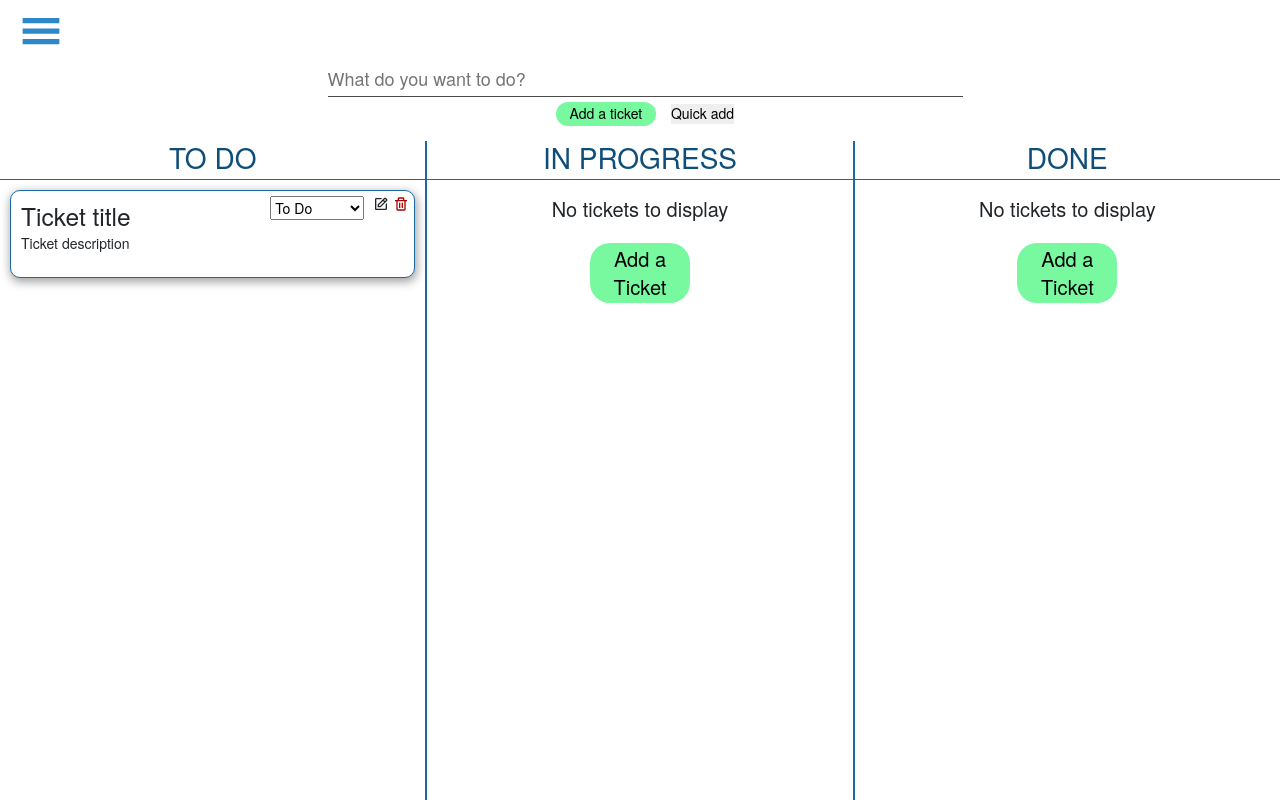
Scenario: Checks editing tickets function › Editing ticket using modal › user can edit title, description and status using modal
Click the icon with test id "edit-ticket-button".
click(381, 204)  # box top-left (373, 196), bottom-right (389, 212)
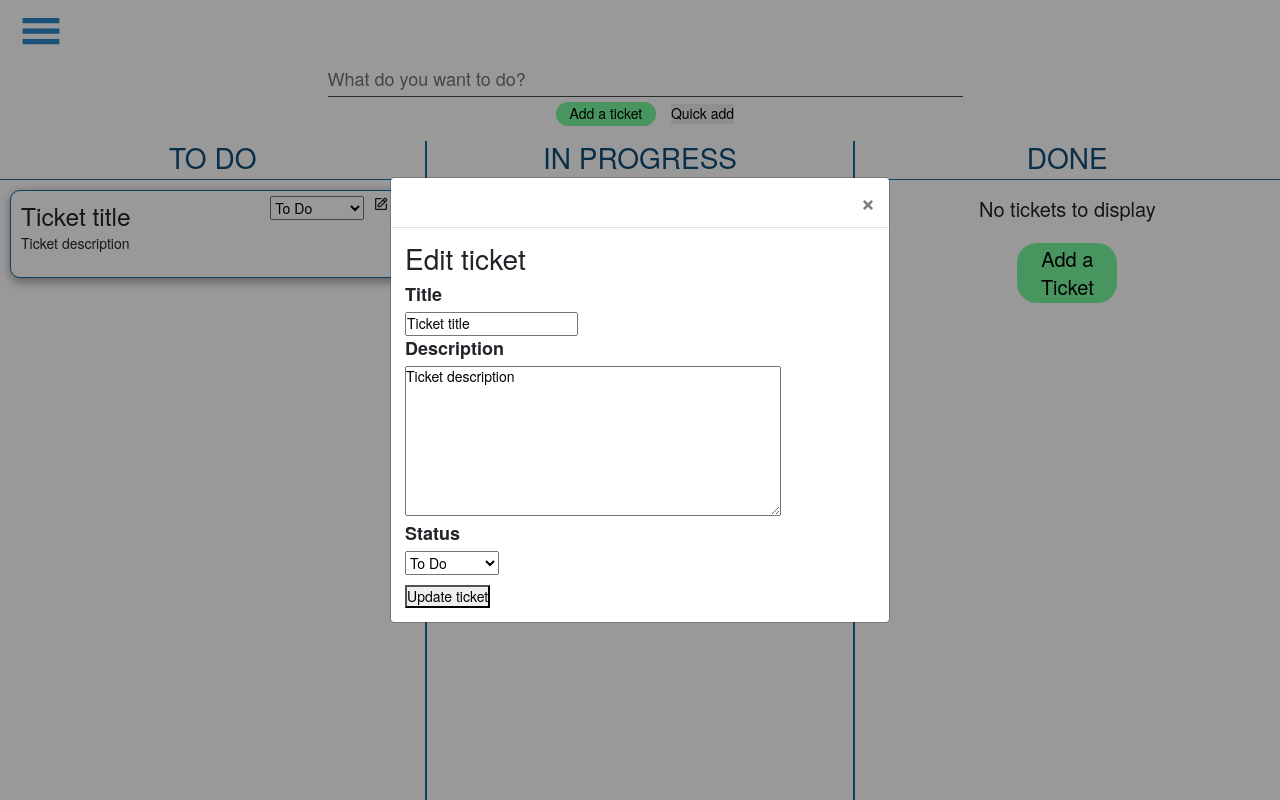
Replace the text in the field with test id "modal-title-input" with "New title" at point(492, 324), box top-left (405, 312), bottom-right (578, 336)
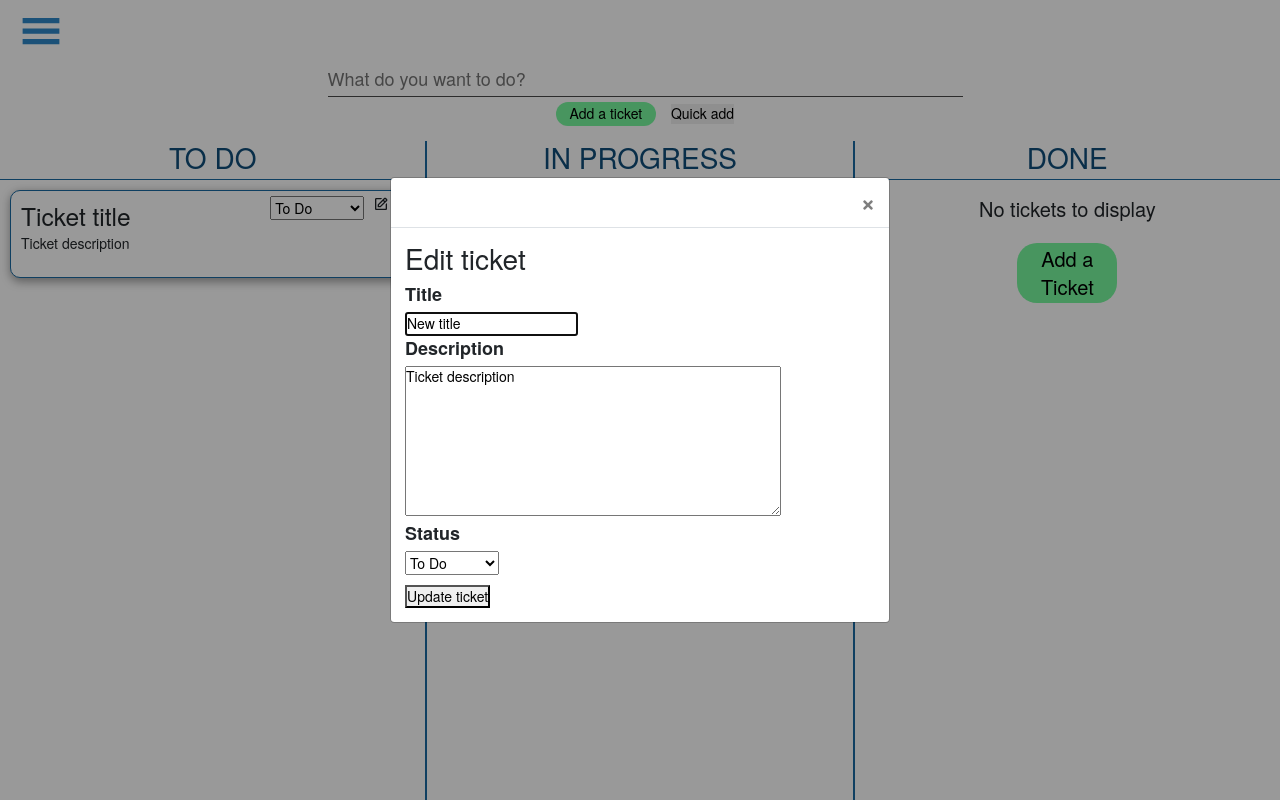
Replace the text in the text box with test id "modal-description-textarea" with "New description" at point(593, 441), box top-left (405, 366), bottom-right (781, 516)
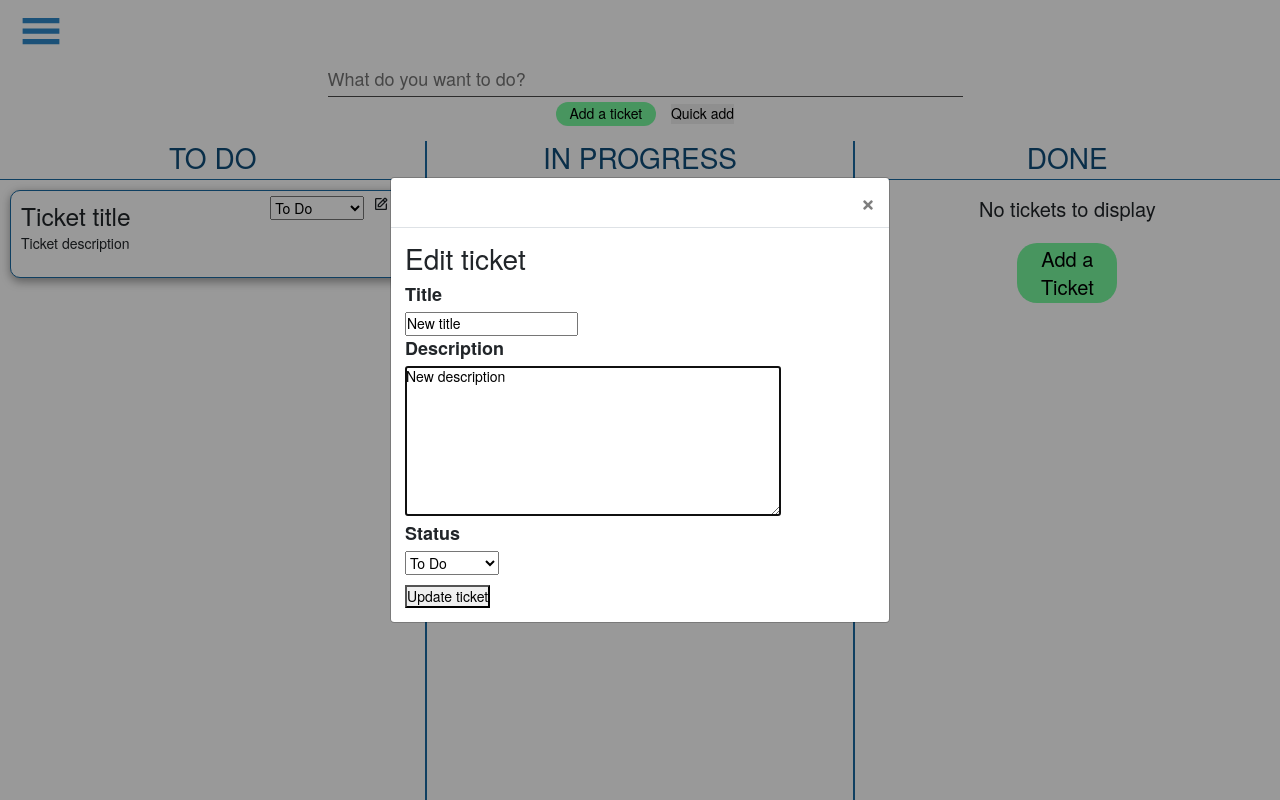
Select "In Progress" in the dropdown with test id "modal-status-select" at point(452, 563), box top-left (405, 551), bottom-right (499, 575)
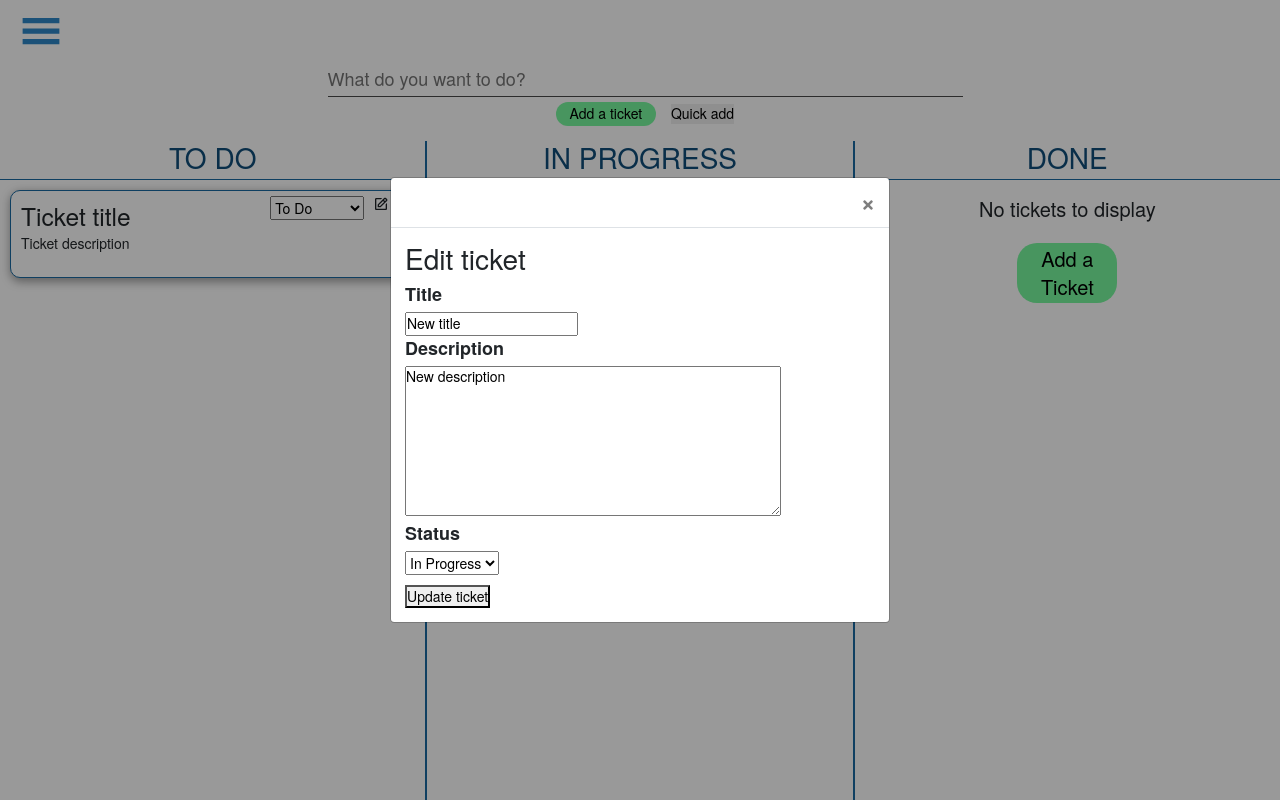
Click the button with test id "modal-submit-button".
click(448, 597)  # box top-left (405, 585), bottom-right (490, 609)
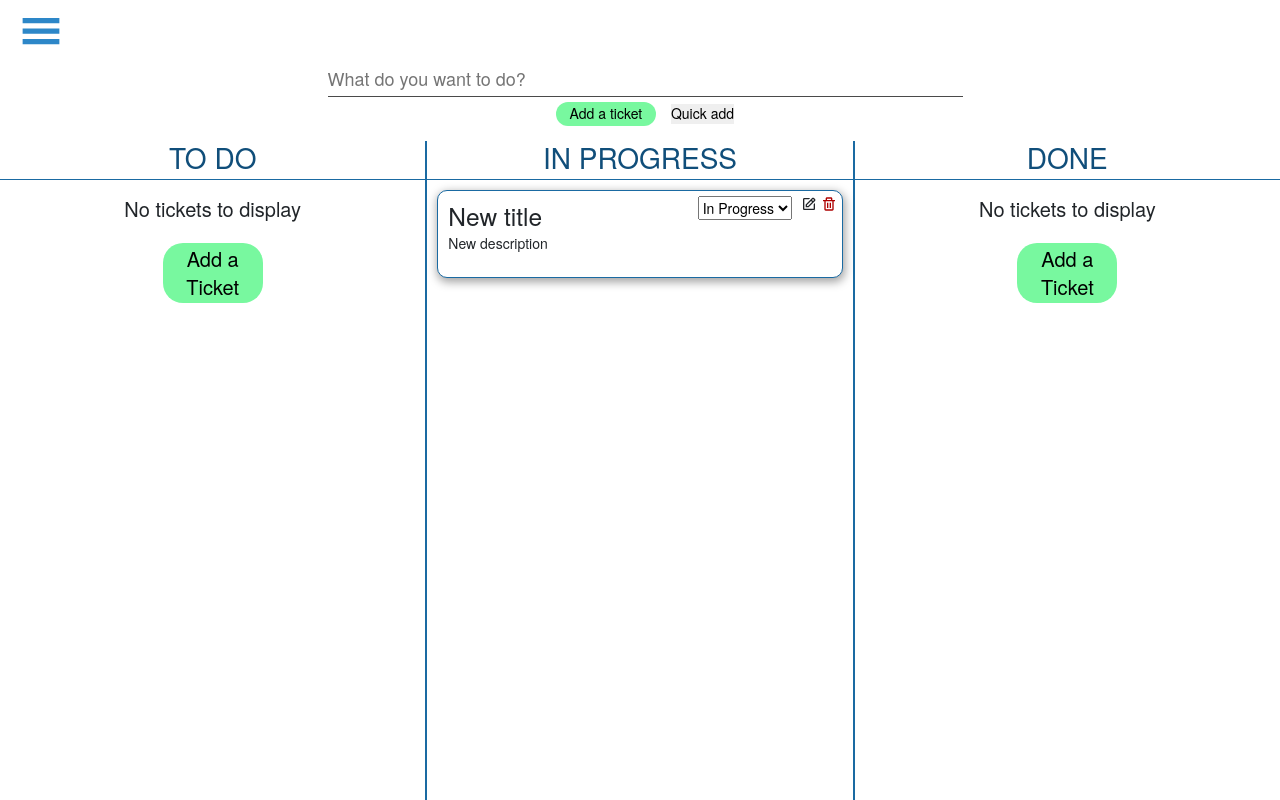
Now the heading with test id "ticket-title" reads "New title", box top-left (448, 198), bottom-right (542, 233)
Now the element with test id "ticket-description" reads "New description", box top-left (448, 233), bottom-right (547, 253)
Now the dropdown with test id "ticket-status-toggle" shows "In Progress", box top-left (698, 196), bottom-right (792, 220)
